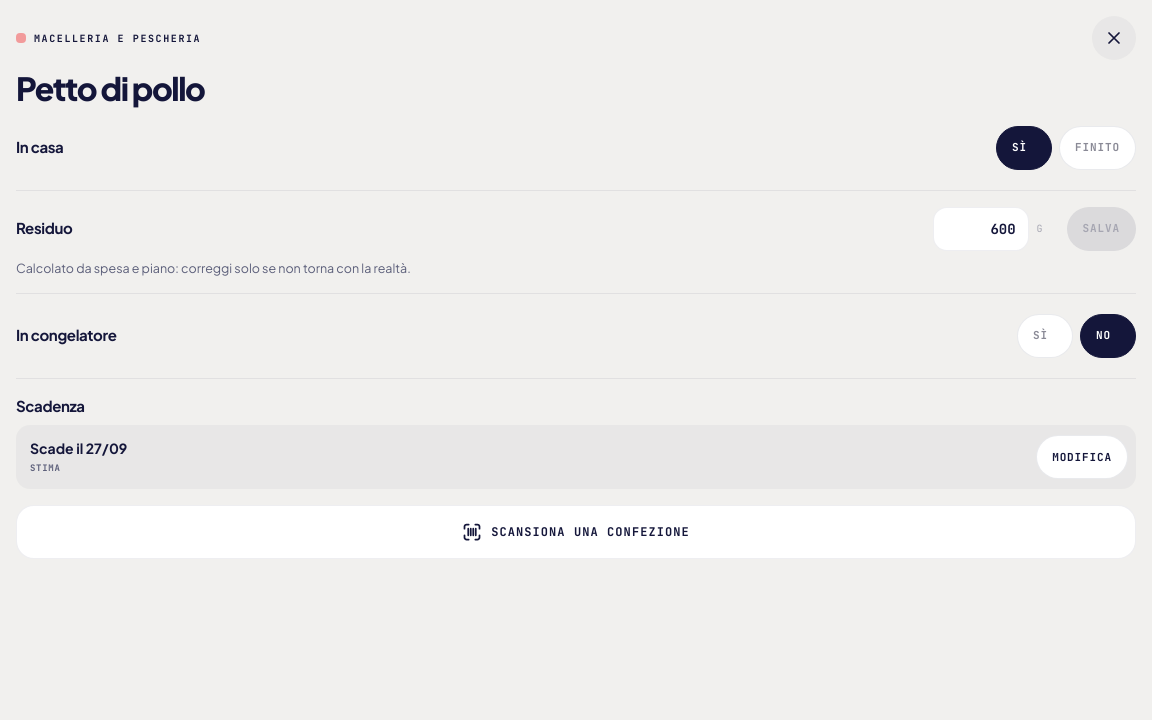
Test: DettaglioIngrediente › Scadenza › data prima di oggi mostra l'errore d'intervallo senza chiamare
Click the button with aria-label "Modifica la scadenza di Petto di pollo" at (1082, 457), box [1036, 435, 1128, 479]
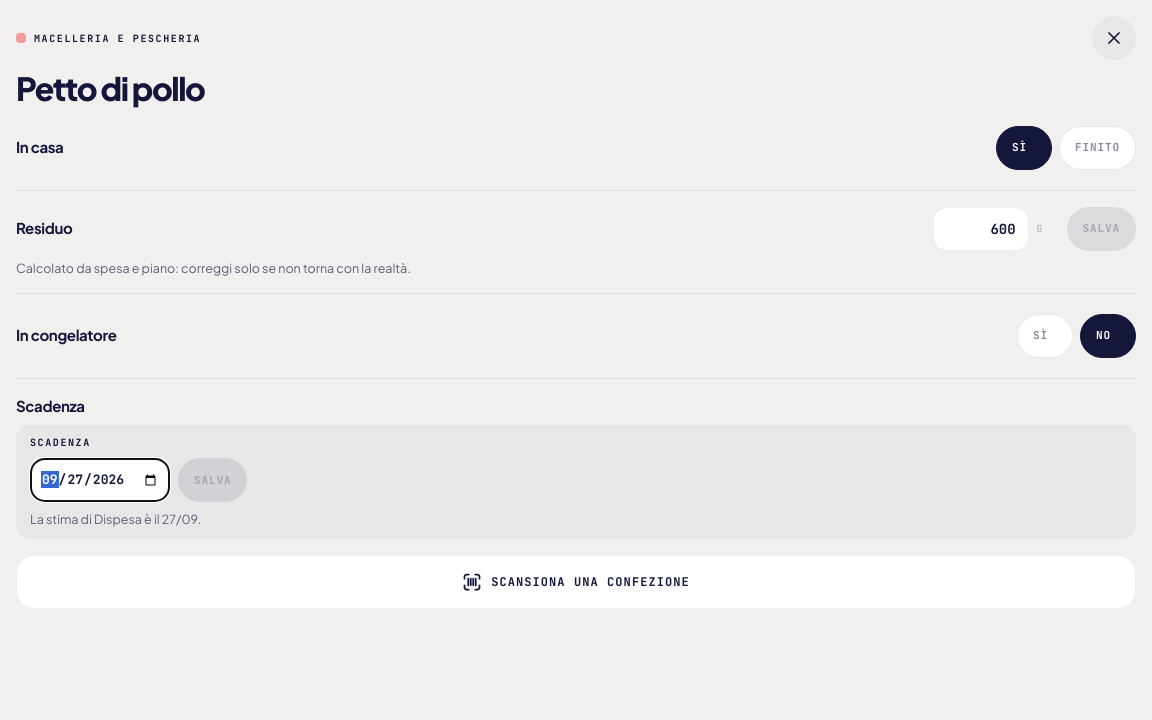
Type "2026-09-20" into the date field named "Scadenza di Petto di pollo" at (100, 480), box [30, 458, 170, 502]
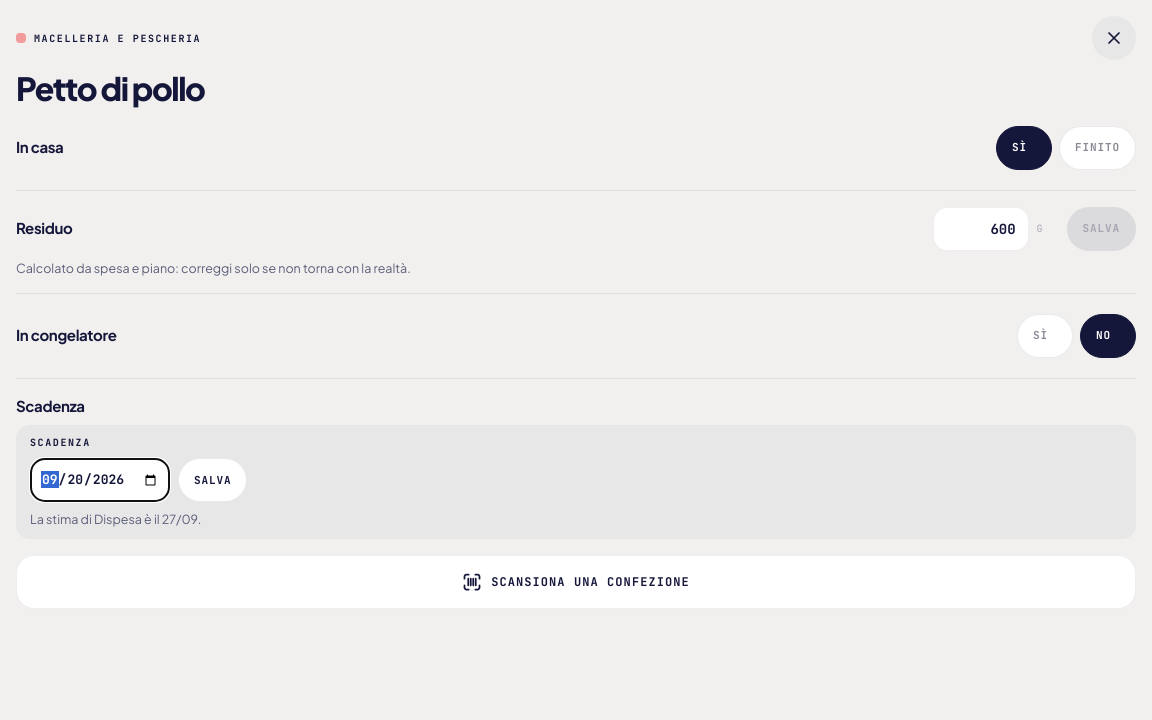
Click the 2nd button "SALVA" at (213, 480), box [178, 458, 247, 502]
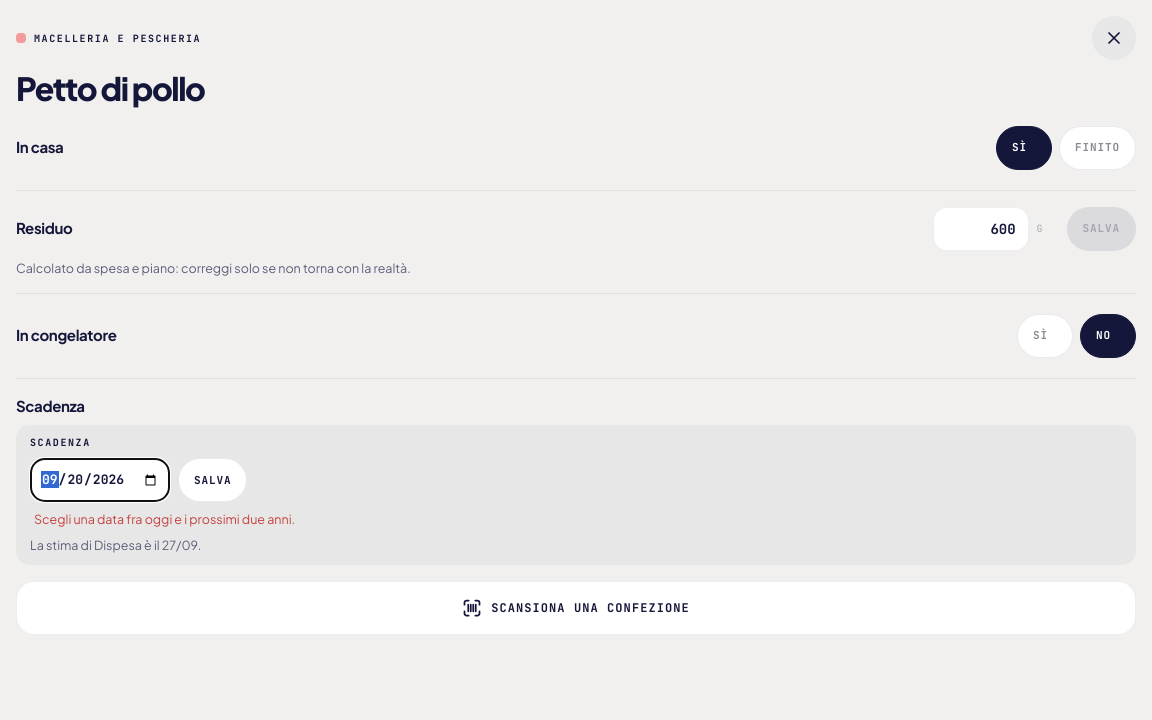
expect the text "Scegli una data fra oggi e i prossimi due anni." is shown: met, box [34, 511, 295, 527]
